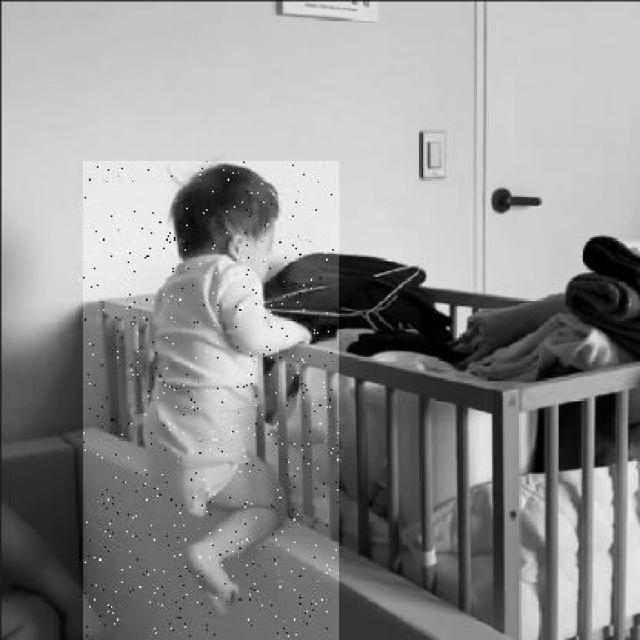child: (83, 160, 340, 640)
